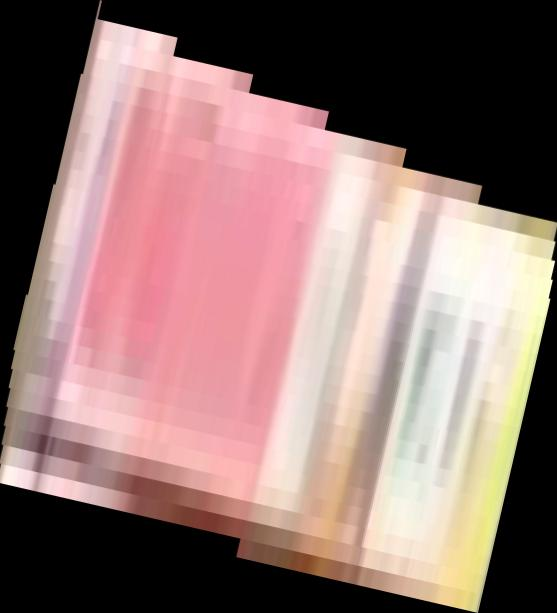flat: (1, 1, 557, 613)
